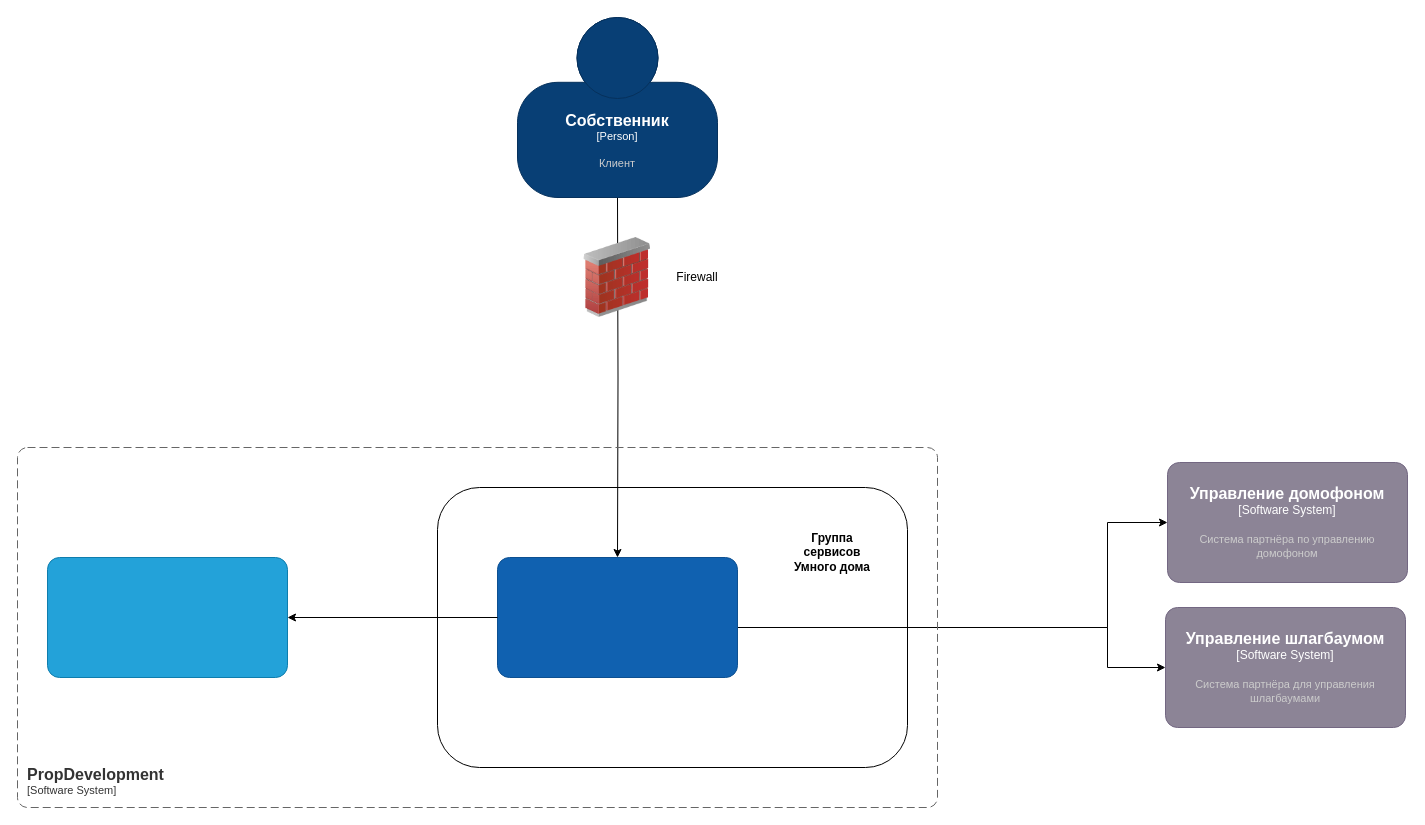
The diagram is 1425 pixels wide and 825 high, and some of its shapes have lost their labels. The centre of each missing label's shape, as x and y in pixels:
"auth-service-1 [Container: Keycloak] Сервис аутентификации покупателей" goes at (x=167, y=617).
"System name [Software System] Description of software system." goes at (x=617, y=617).
